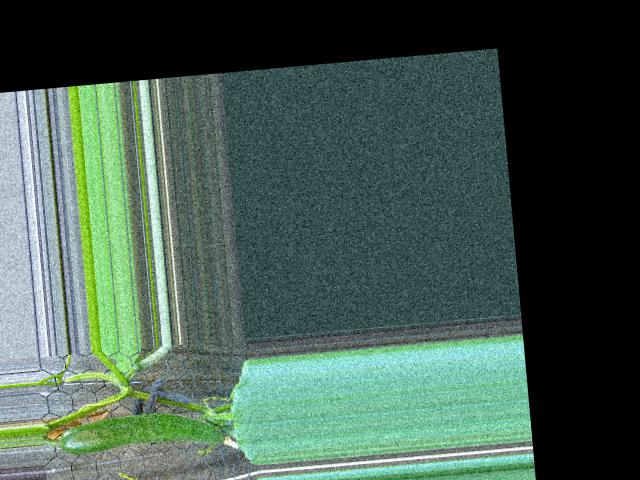cucumber: (58, 406, 224, 457)
